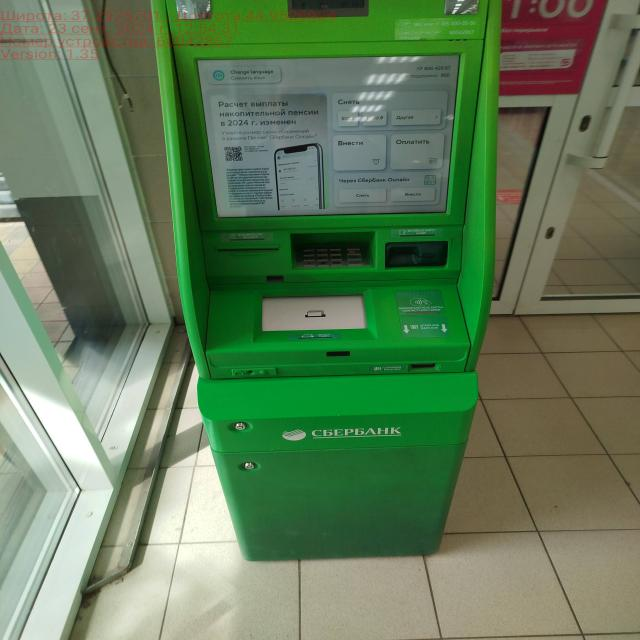bank: (156, 0, 499, 564)
